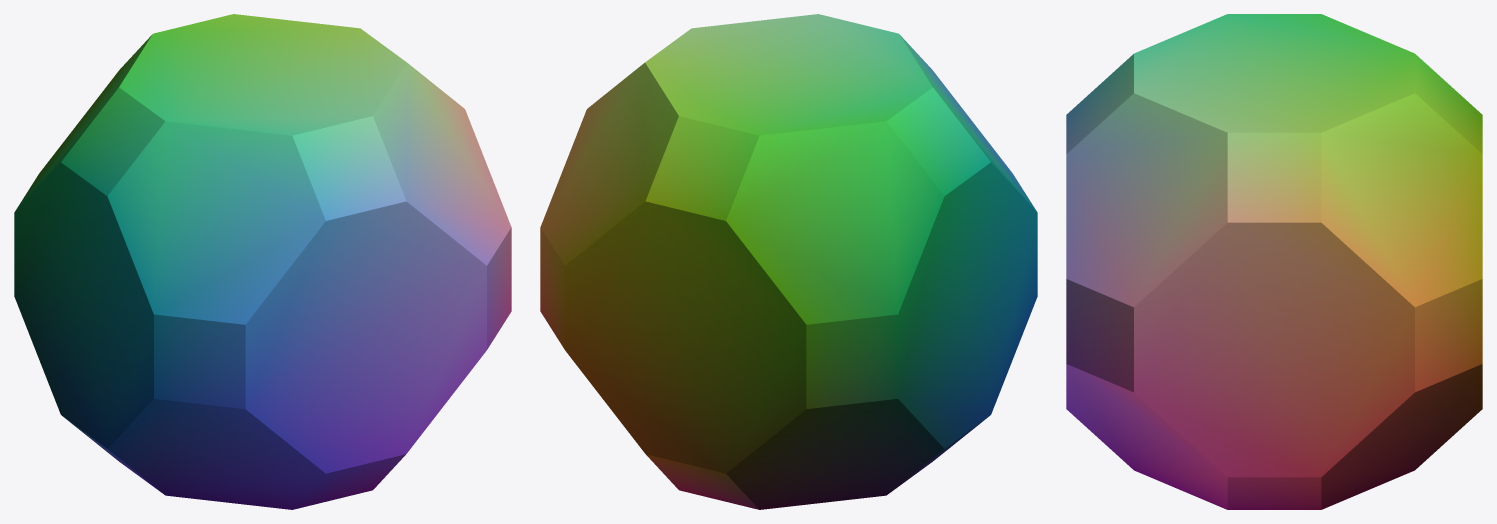
Rendered from zeometry-polyhedra-truncated-cuboctahedron_v1.glb.
3 views of the same model, side by side, from view 1: azimuth 30°, elevation 25°; view 2: azimuth 150°, elevation 25°; view 3: azimuth 270°, elevation 25° (orthographic).
Parts seen in each view (by area): view 1: Truncated Cuboctahedron; view 2: Truncated Cuboctahedron; view 3: Truncated Cuboctahedron.
Part boxes in pixels (bbox=[...]): Truncated Cuboctahedron: bbox=[14, 14, 511, 509]; Truncated Cuboctahedron: bbox=[540, 14, 1037, 509]; Truncated Cuboctahedron: bbox=[1066, 14, 1482, 509].
Bounding box in the file's own units: 0.5 × 0.5 × 0.5.
